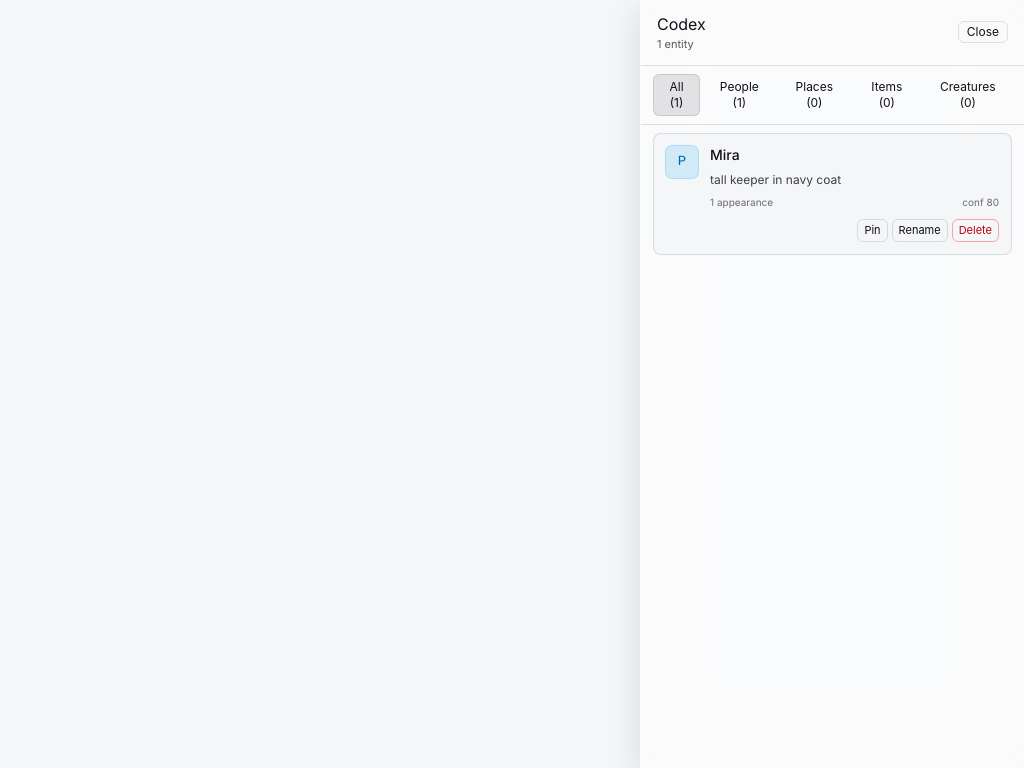
Scenario: CodexPanel › displays an inline error when a mutation fails
Click the button "Pin". click: click(872, 230)
box: [857,219,888,242]
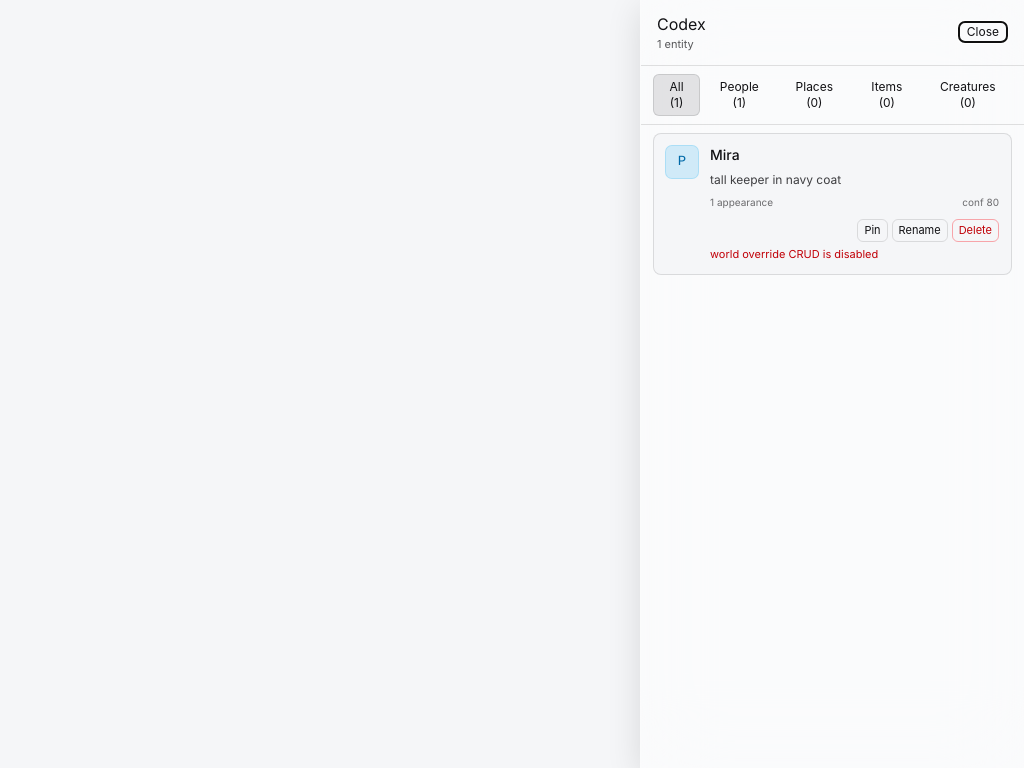
expect the text "world override CRUD is disabled" is shown: met, box [710,246,878,260]
